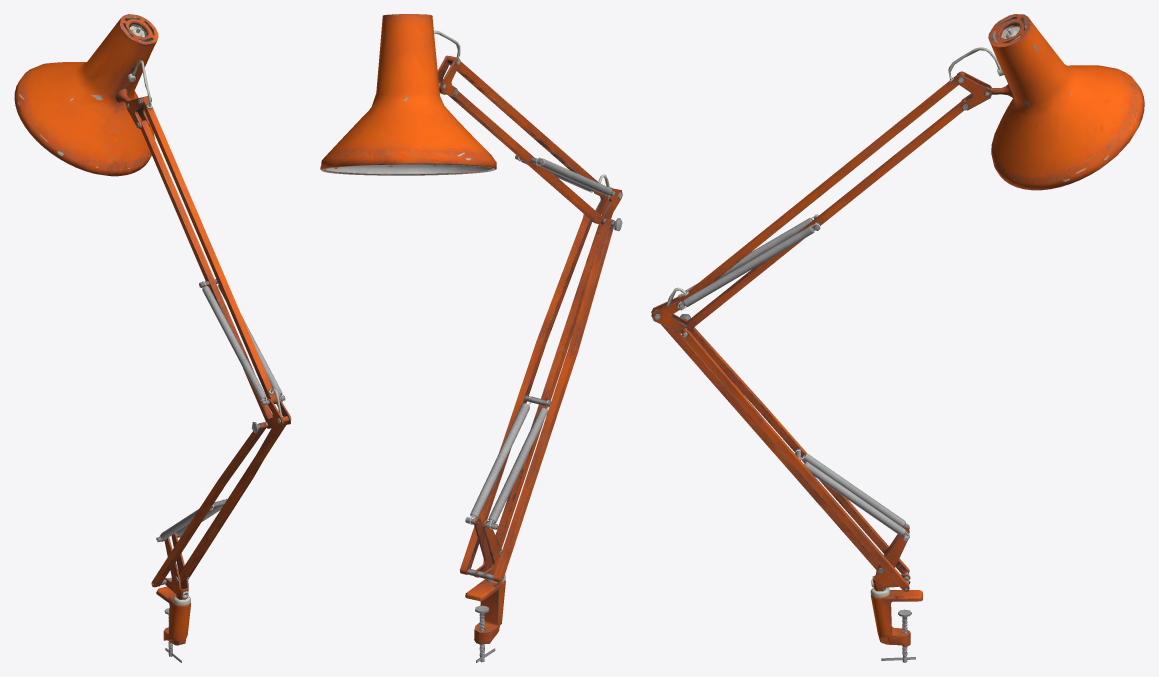
The model's file is desk_lamp_arm_01.gltf.
The picture shows the model from 3 angles, left to right: view 1: azimuth 30°, elevation 25°; view 2: azimuth 150°, elevation 25°; view 3: azimuth 270°, elevation 25°; orthographic projection. The views are drawn at different scales.
Visible parts, largest first — view 1: desk_lamp_arm_01; view 2: desk_lamp_arm_01; view 3: desk_lamp_arm_01.
Boxes of the visible parts, x1,y1,x2,y2 form: desk_lamp_arm_01: (14, 14, 291, 662); desk_lamp_arm_01: (320, 14, 622, 662); desk_lamp_arm_01: (651, 14, 1144, 662).
Bounding box in the file's own units: 0.2017 × 0.8926 × 0.6139.
2 materials, 2 textured.
